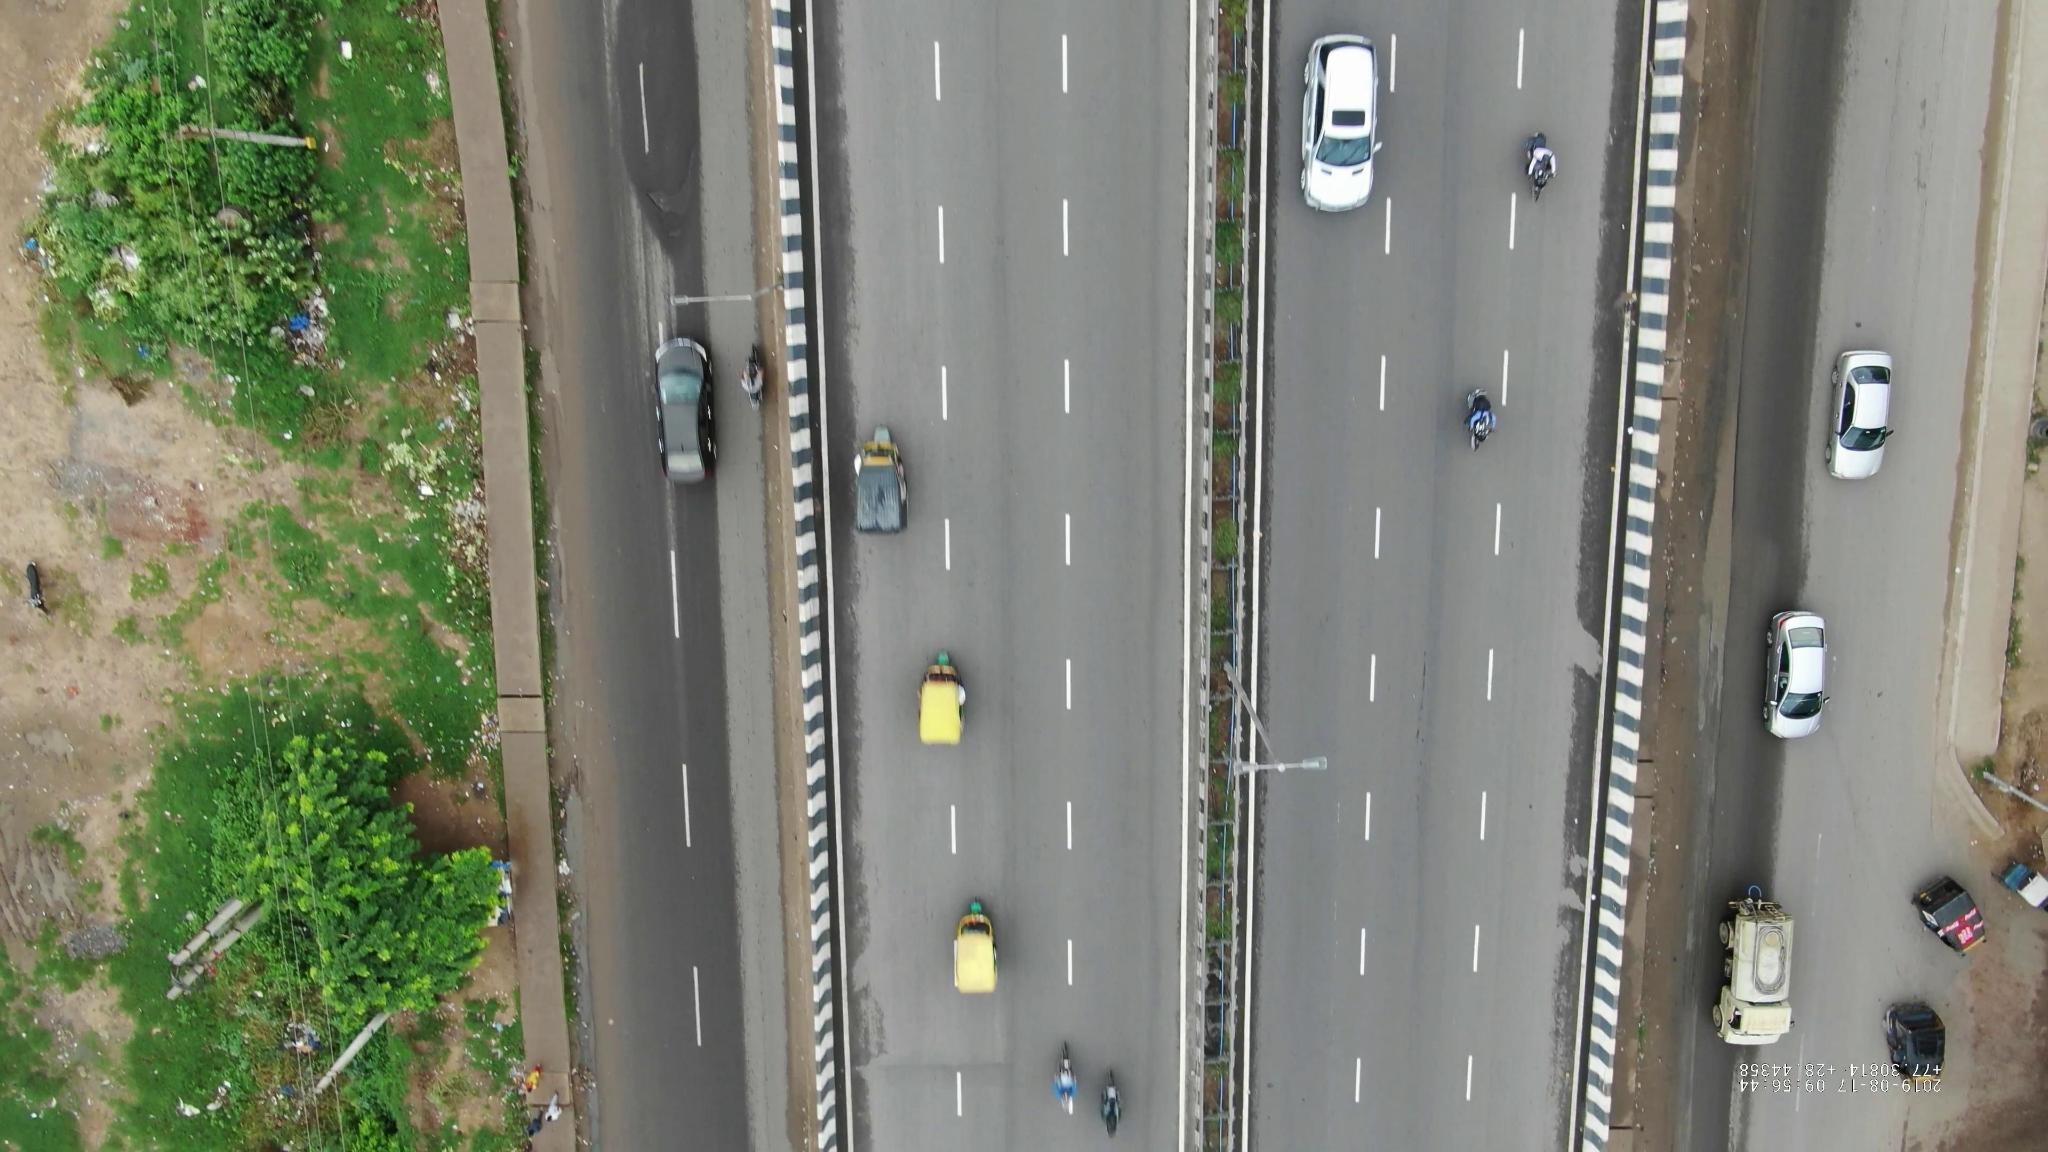Muddy_road: (1658, 14, 1747, 435), (1644, 457, 1729, 785), (1609, 821, 1706, 1048)
Potholes: (623, 122, 717, 248)
